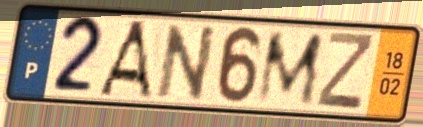2: (46, 14, 110, 99)
6: (215, 23, 265, 108)
A: (95, 17, 154, 102)
M: (254, 30, 327, 107)
N: (154, 22, 220, 103)
Z: (314, 29, 377, 114)
